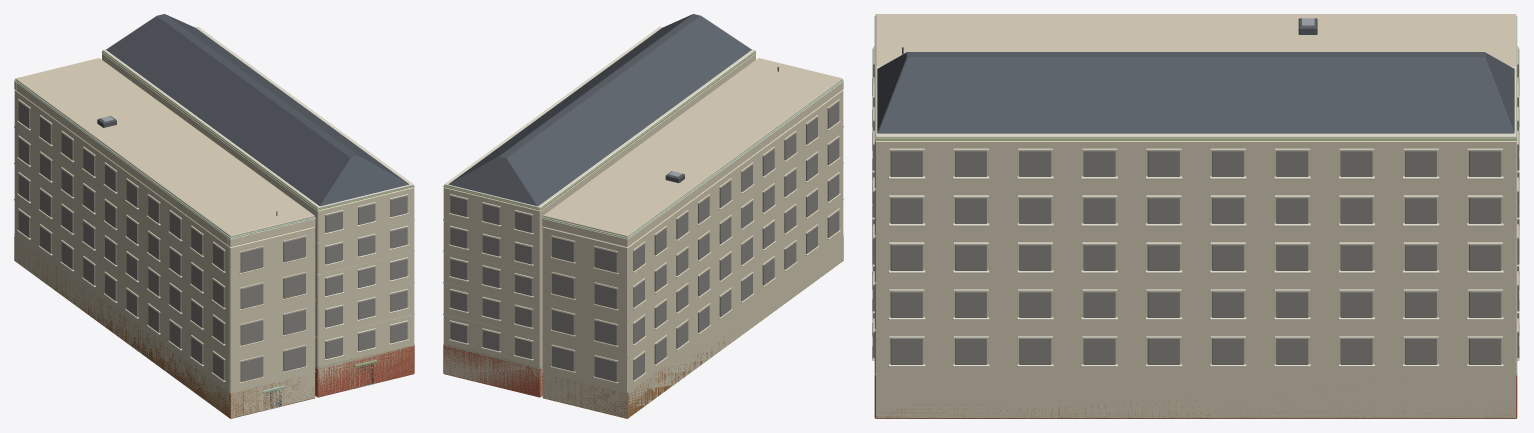
Rendered from VG_Bld_Residential_17.fbx.
3 views of the same model, side by side, from view 1: azimuth 30°, elevation 25°; view 2: azimuth 150°, elevation 25°; view 3: azimuth 270°, elevation 25° (orthographic). The views are drawn at different scales.
Visible parts, largest first — view 1: VG_Bld_Residential_17_Body; view 2: VG_Bld_Residential_17_Body; view 3: VG_Bld_Residential_17_Body.
Boxes of the visible parts, x1,y1,x2,y2 form: VG_Bld_Residential_17_Body: (14, 14, 414, 418); VG_Bld_Residential_17_Body: (443, 14, 843, 418); VG_Bld_Residential_17_Body: (872, 14, 1519, 418).
Bounding box in the file's own units: 24 × 26.94 × 48.
